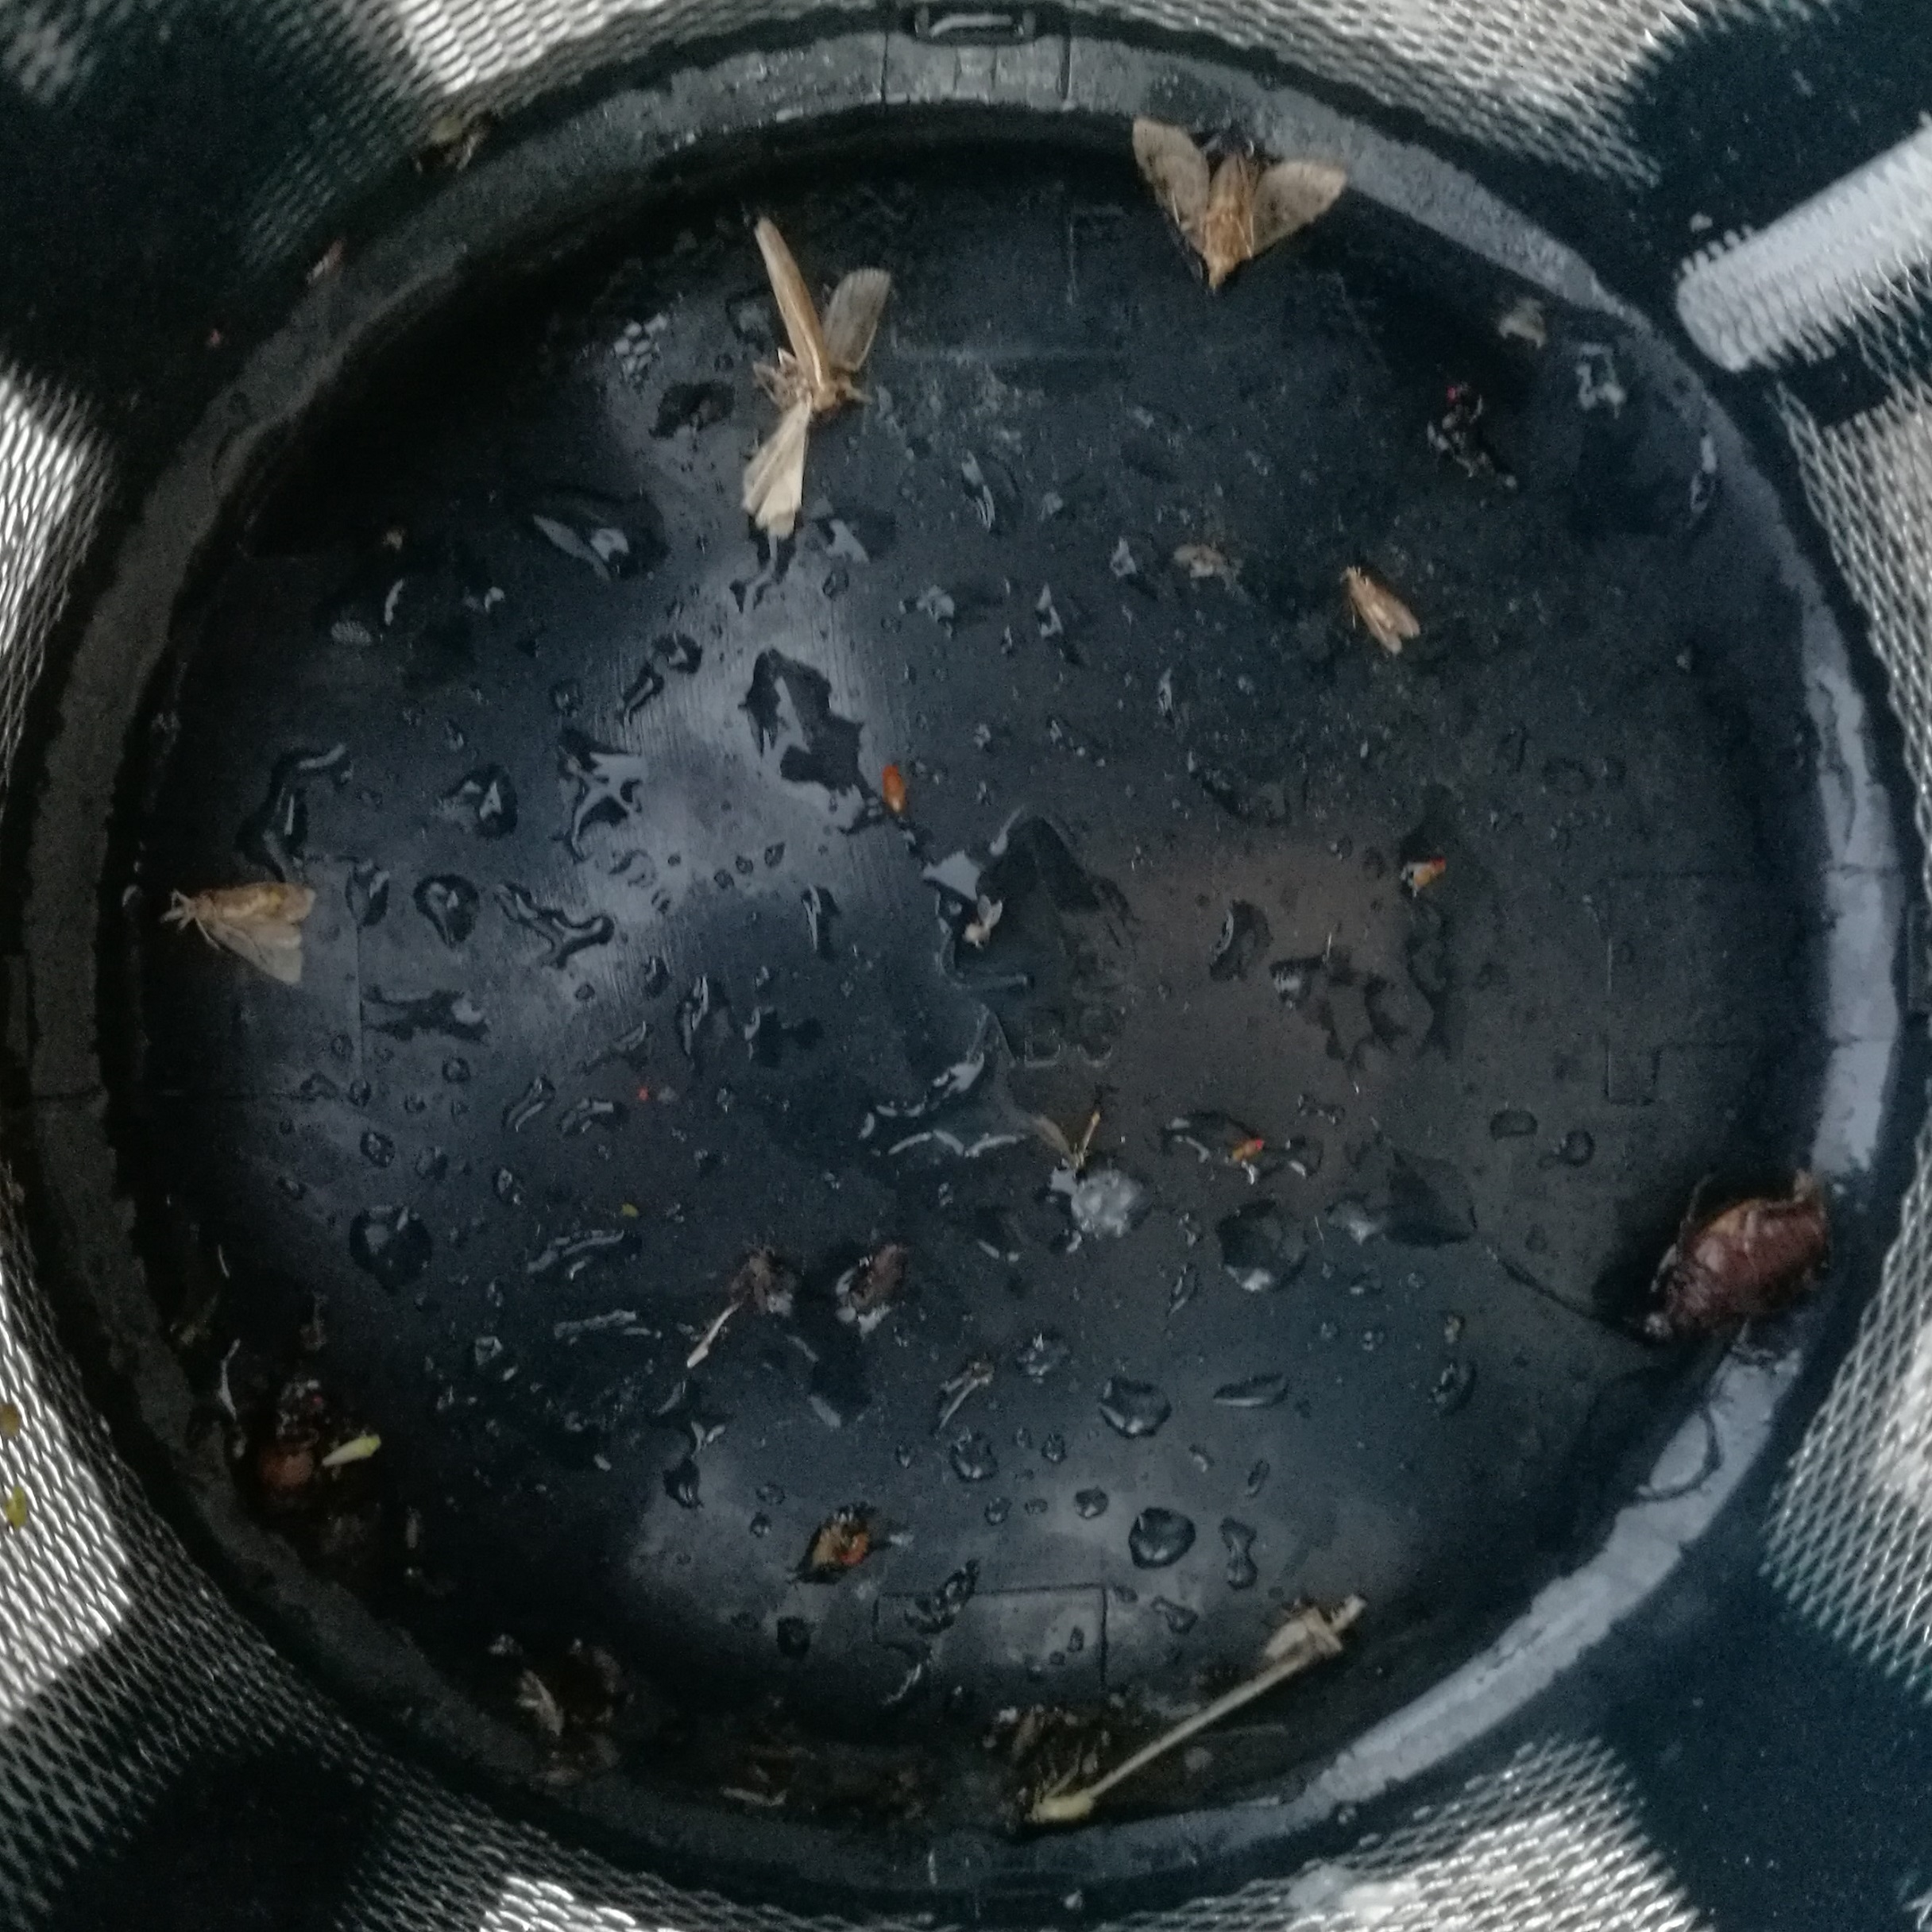beetle: (1647, 1184, 1836, 1348)
moth: (743, 221, 883, 538), (1136, 119, 1343, 288), (161, 881, 315, 987)
